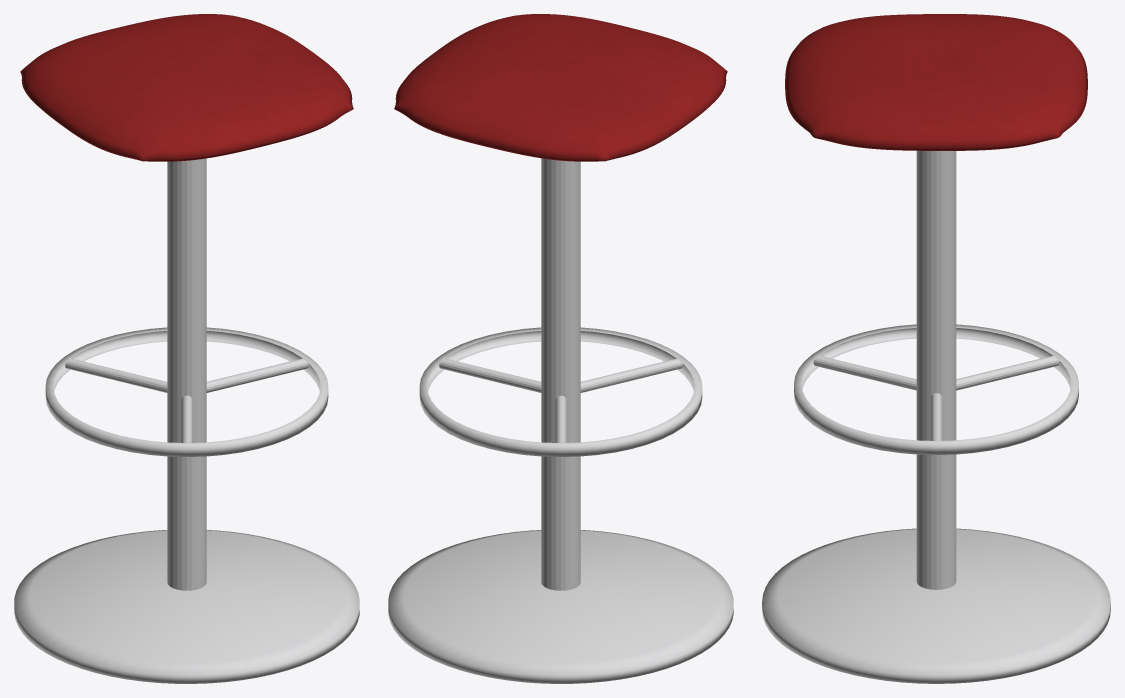
The model's file is chrome-red.glb.
The picture shows the model from 3 angles, left to right: view 1: azimuth 30°, elevation 25°; view 2: azimuth 150°, elevation 25°; view 3: azimuth 270°, elevation 25°; orthographic projection.
Parts seen in each view (by area): view 1: chrome, leather_primary; view 2: chrome, leather_primary; view 3: chrome, leather_primary.
Part boxes in pixels (x1=…): chrome: x1=14, y1=158, x2=359, y2=683; leather_primary: x1=20, y1=14, x2=353, y2=161; chrome: x1=388, y1=158, x2=733, y2=683; leather_primary: x1=394, y1=14, x2=727, y2=161; chrome: x1=762, y1=150, x2=1110, y2=683; leather_primary: x1=785, y1=14, x2=1087, y2=150.
Size of the model in its own units: 0.44 by 0.7706 by 0.44.
Materials: 2 (1 with a texture image).
